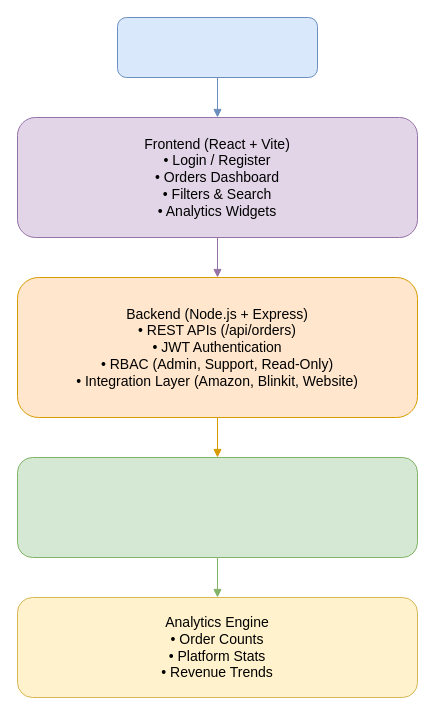
Some shapes in this 435 by 715 pixel diagram are drawn without their labels. The centre of each missing label's shape, as x and y in pixels:
MongoDB • Orders Collection • Users Collection • Audit Logs: (217,507)
Users / Admins: (217,47)
